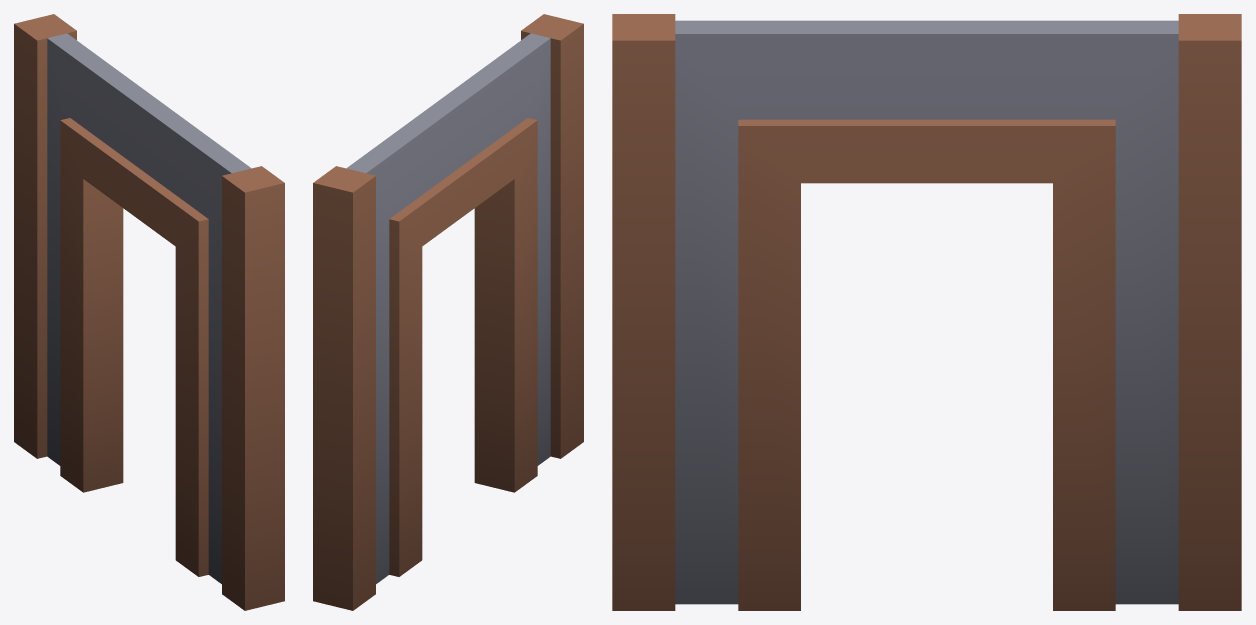
File: wall-doorway-square.glb
The picture shows the model from 3 angles, left to right: view 1: azimuth 30°, elevation 25°; view 2: azimuth 150°, elevation 25°; view 3: azimuth 270°, elevation 25°; orthographic projection. The views are drawn at different scales.
Visible parts, largest first — view 1: wall-doorway-square; view 2: wall-doorway-square; view 3: wall-doorway-square.
Boxes of the visible parts, bbox=[...] form: wall-doorway-square: bbox=[14, 14, 284, 610]; wall-doorway-square: bbox=[313, 14, 583, 610]; wall-doorway-square: bbox=[612, 14, 1241, 610].
Bounding box in the file's own units: 0.2999 × 3 × 3.
